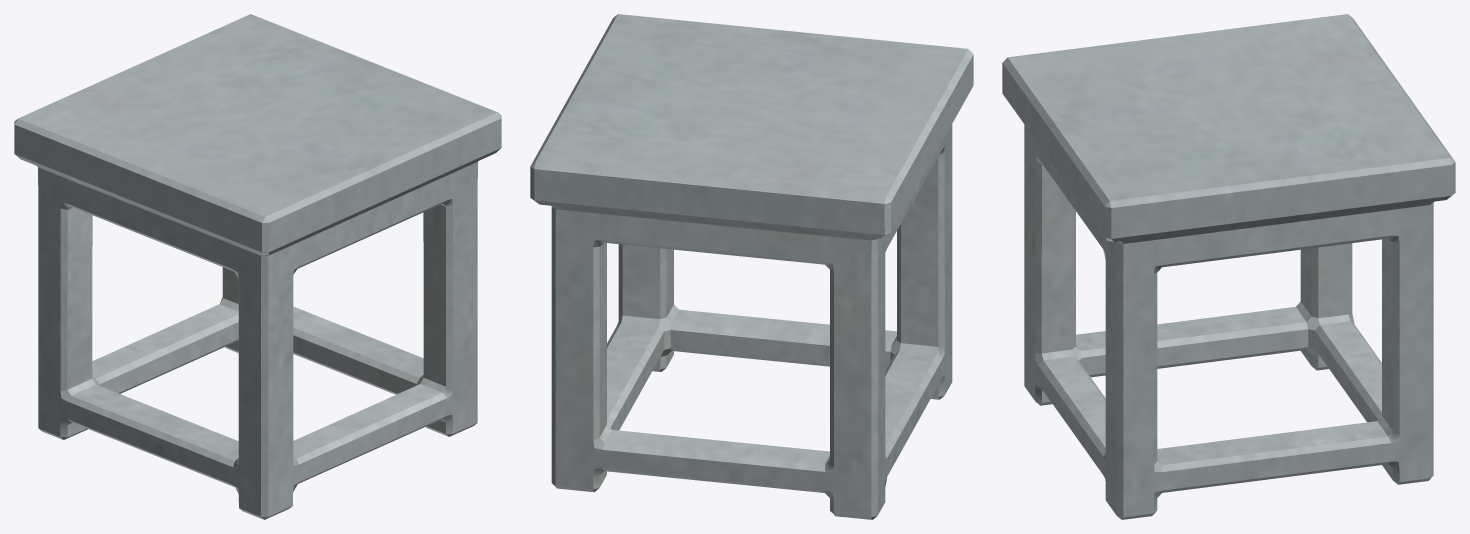
File: stool.fbx
3 views of the same model, side by side, from view 1: azimuth 30°, elevation 25°; view 2: azimuth 150°, elevation 25°; view 3: azimuth 270°, elevation 25° (orthographic). The views are drawn at different scales.
Parts seen in each view (by area): view 1: pasted__chair; view 2: pasted__chair; view 3: pasted__chair.
Boxes of the visible parts, box(x1,y1,x2,y2) form: pasted__chair: box(14, 14, 501, 519); pasted__chair: box(530, 14, 973, 519); pasted__chair: box(1002, 14, 1455, 519).
Size of the model in its own units: 61.19 by 48.89 by 61.19.
